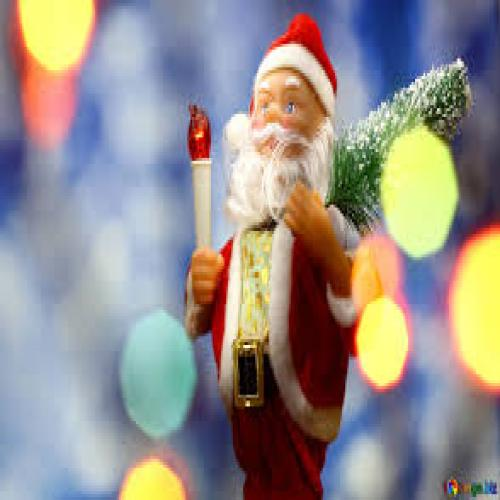Santa: (184, 12, 364, 497)
